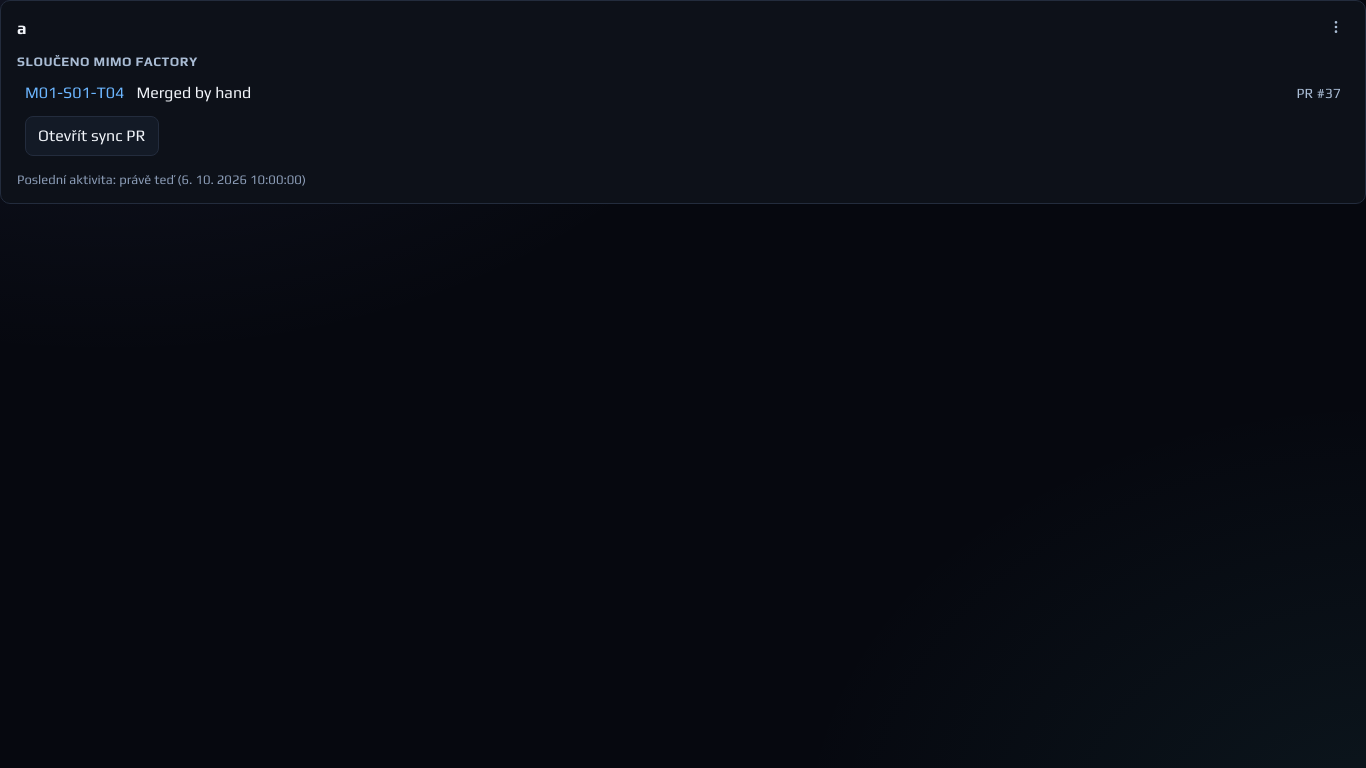
Scenario: RepoCard merged outside factory › shows the error of a failed sync
Click the button with test id "sync-open" at coordinates (92, 136), box [25,116,158,156]
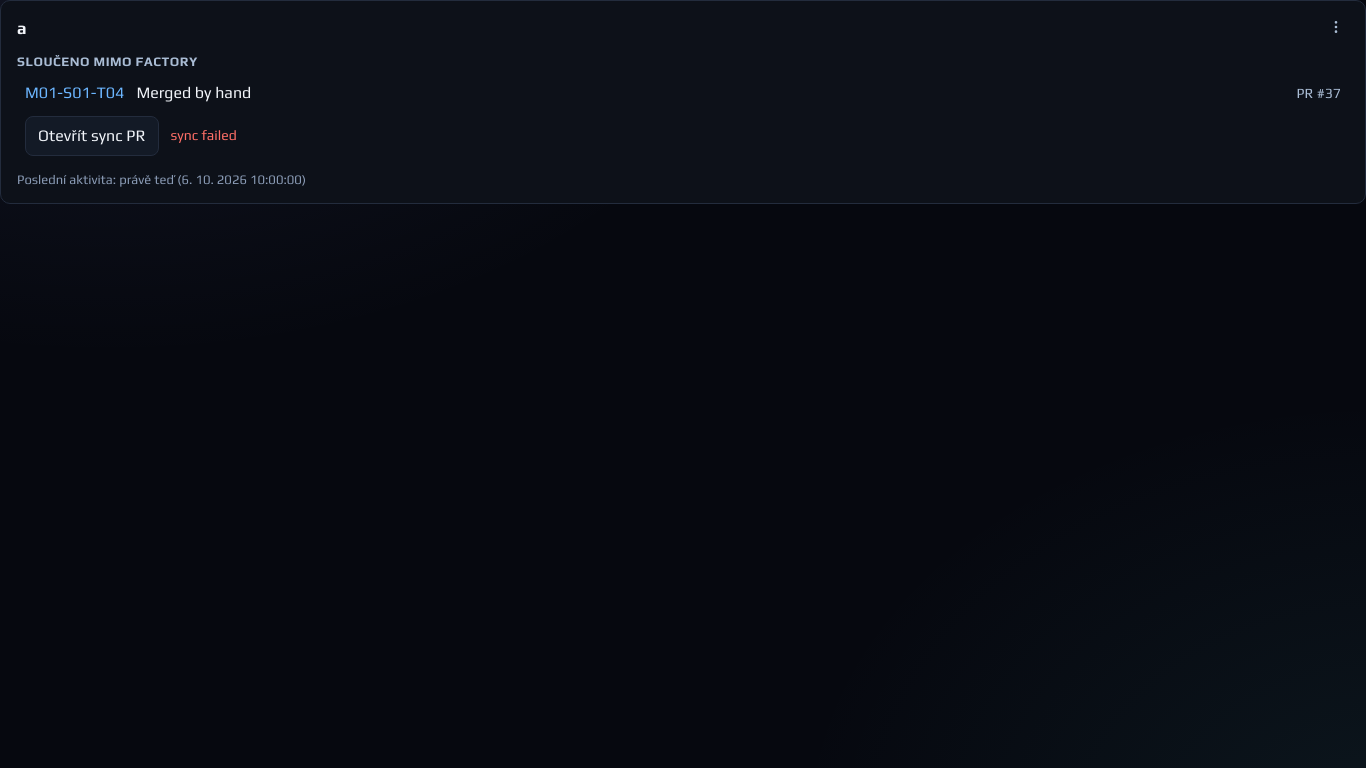
Check: the text with test id "sync-error" reads "sync failed", box [170,127,237,143]
